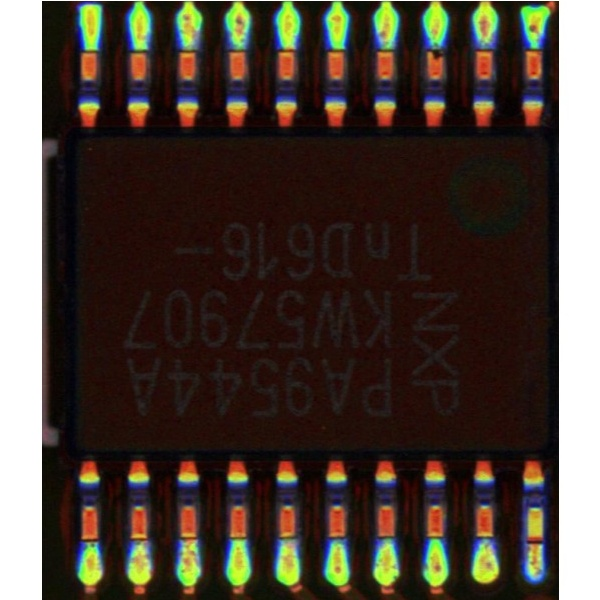Bad_podu: (526, 530, 541, 556), (180, 528, 193, 550)
